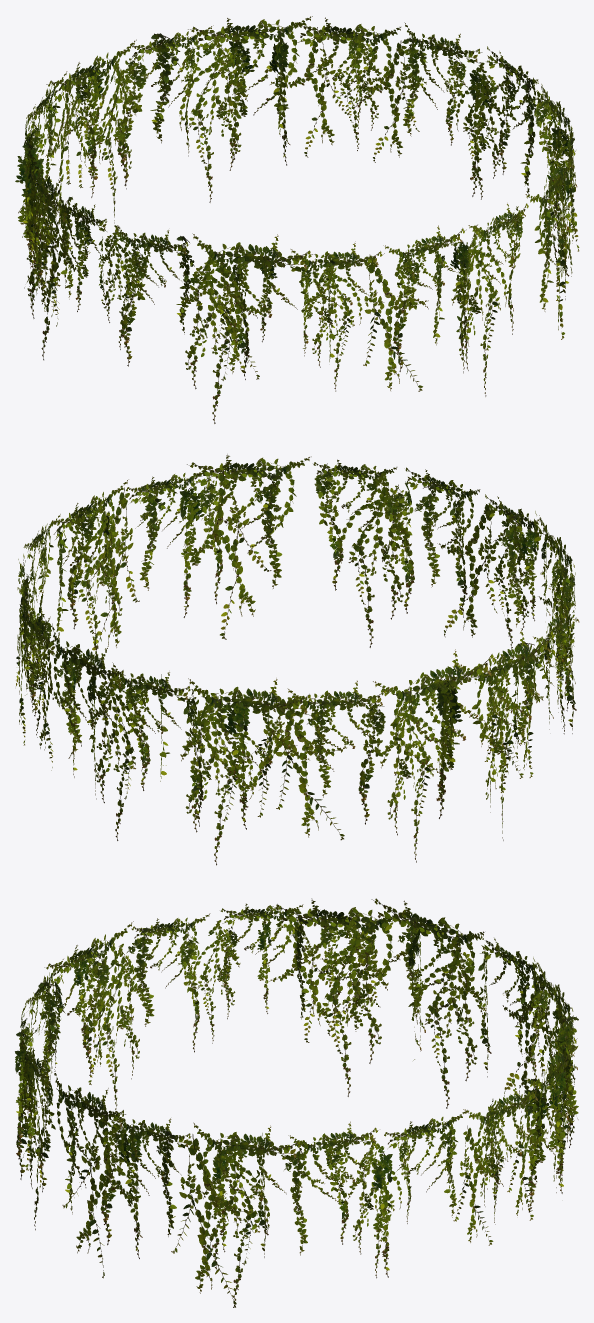
Rendered from SM_Ivy_Hall.fbx.
3 views of the same model, one above another, from view 1: azimuth 30°, elevation 25°; view 2: azimuth 150°, elevation 25°; view 3: azimuth 270°, elevation 25° (orthographic).
Parts seen in each view (by area): view 1: _5d80_Var3_LOD0.011, _d8dc_Var4_LOD0, _d8dc_Var4_LOD0.006, _5d80_Var3_LOD0.001, _d8dc_Var4_LOD0.004, _5d80_Var3_LOD0.002, _21b8_Var6_LOD0.002, _d8dc_Var4_LOD0.002, _5d80_Var3_LOD0.010, _d8dc_Var4_LOD0.005, _5d80_Var3_LOD0.017, _d8dc_Var4_LOD0.008 (+46 smaller); view 2: _5d80_Var3_LOD0.015, _d8dc_Var4_LOD0.004, _5d80_Var3_LOD0.017, _d8dc_Var4_LOD0.010, _5d80_Var3_LOD0.007, _5d80_Var3_LOD0.014, _d8dc_Var4_LOD0.009, _d8dc_Var4_LOD0.003, _d8dc_Var4_LOD0, _21b8_Var6_LOD0.007, _5d80_Var3_LOD0.001, _5d80_Var3_LOD0.016 (+42 smaller); view 3: _d8dc_Var4_LOD0.008, _d8dc_Var4_LOD0.009, _5d80_Var3_LOD0.014, _5d80_Var3_LOD0.005, _21b8_Var6_LOD0.001, _5d80_Var3_LOD0.015, _d8dc_Var4_LOD0.003, _d8dc_Var4_LOD0.006, _5d80_Var3_LOD0.007, _21b8_Var6_LOD0.007, _5d80_Var3_LOD0.002, _5d80_Var3_LOD0.004 (+43 smaller).
Part boxes in pixels (x1,y1,x2,y2): _5d80_Var3_LOD0.011: (192,233,314,342); _d8dc_Var4_LOD0: (179,35,248,202); _d8dc_Var4_LOD0.006: (179,252,249,423); _5d80_Var3_LOD0.001: (188,16,312,115); _d8dc_Var4_LOD0.004: (451,224,506,396); _5d80_Var3_LOD0.002: (296,17,400,109); _21b8_Var6_LOD0.002: (363,254,428,391); _d8dc_Var4_LOD0.002: (455,62,503,199); _5d80_Var3_LOD0.010: (290,241,384,326); _d8dc_Var4_LOD0.005: (307,254,362,391); _5d80_Var3_LOD0.017: (46,39,136,158); _d8dc_Var4_LOD0.008: (24,176,67,360); _5d80_Var3_LOD0.015: (373,649,498,776); _d8dc_Var4_LOD0.004: (339,472,411,647); _5d80_Var3_LOD0.017: (188,678,315,790); _d8dc_Var4_LOD0.010: (180,693,252,865); _5d80_Var3_LOD0.007: (187,454,311,553); _5d80_Var3_LOD0.014: (459,628,556,758); _d8dc_Var4_LOD0.009: (380,688,440,862); _d8dc_Var4_LOD0.003: (71,500,128,670); _d8dc_Var4_LOD0: (93,667,143,840); _21b8_Var6_LOD0.007: (182,469,271,639); _5d80_Var3_LOD0.001: (52,623,125,746); _5d80_Var3_LOD0.016: (287,680,389,771); _d8dc_Var4_LOD0.008: (311,916,388,1096); _d8dc_Var4_LOD0.009: (415,936,483,1108); _5d80_Var3_LOD0.014: (272,898,405,1011); _5d80_Var3_LOD0.005: (193,1122,303,1222); _21b8_Var6_LOD0.001: (171,1134,253,1307); _5d80_Var3_LOD0.015: (371,898,484,1017); _d8dc_Var4_LOD0.003: (202,1134,269,1304); _d8dc_Var4_LOD0.006: (93,943,144,1112); _5d80_Var3_LOD0.007: (54,1070,125,1187); _21b8_Var6_LOD0.007: (62,1114,137,1278); _5d80_Var3_LOD0.002: (463,1081,542,1186); _5d80_Var3_LOD0.004: (288,1121,378,1203).
Bounding box in the file's own units: 9.45 × 3.83 × 9.44.
